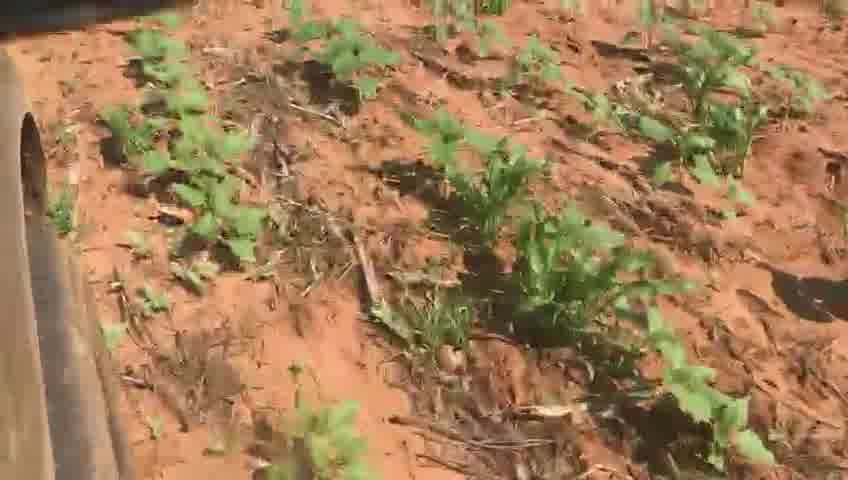sunflower: (661, 362, 779, 471), (111, 105, 263, 177), (251, 402, 379, 480), (166, 172, 268, 262), (463, 139, 547, 223), (325, 25, 405, 108), (130, 47, 223, 116), (613, 275, 685, 356), (416, 112, 486, 177)
